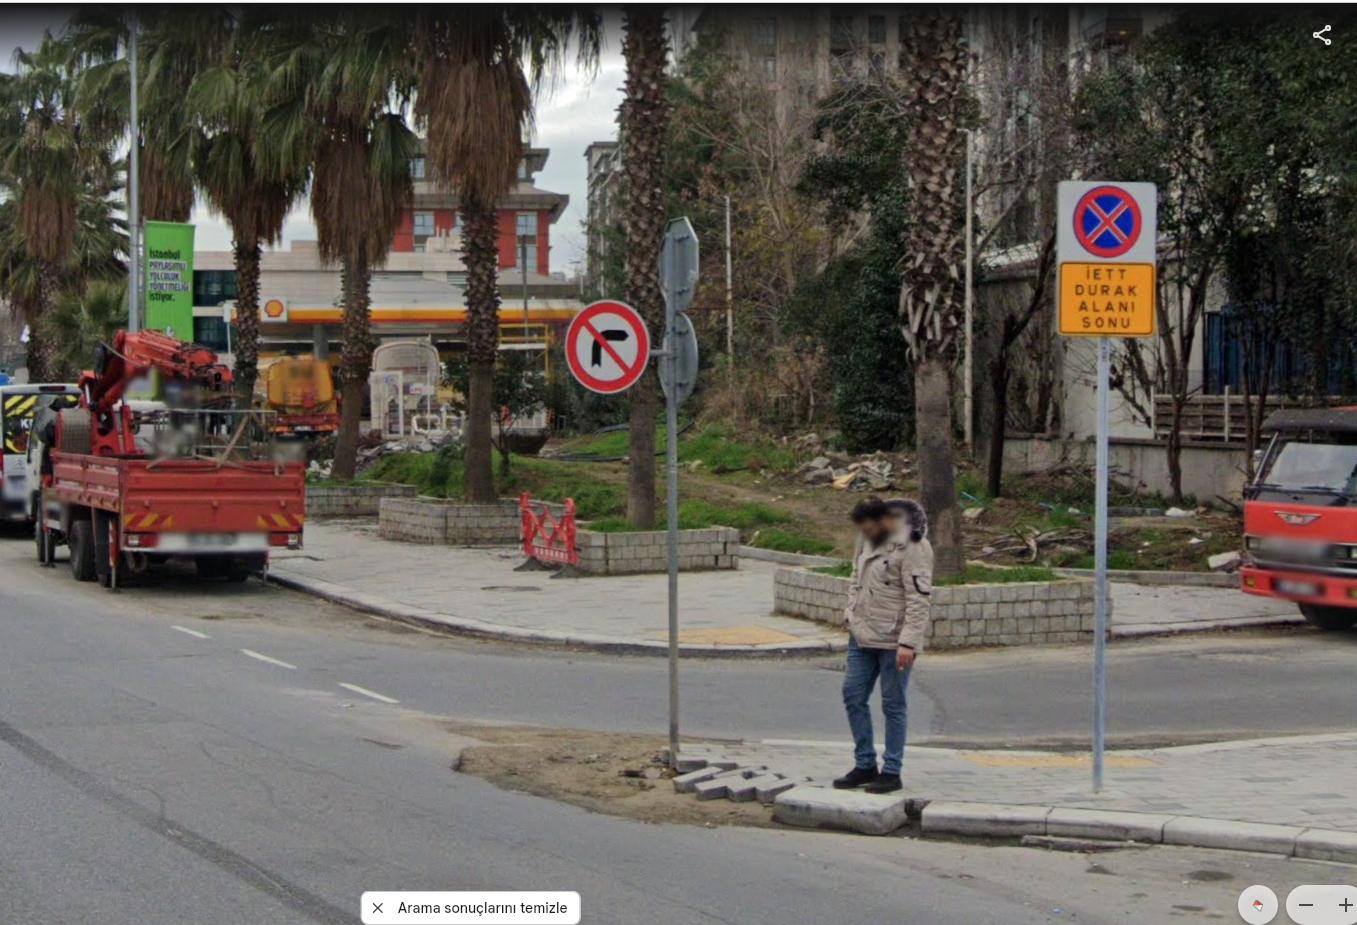rightturnsareforbidden: (568, 302, 650, 389)
